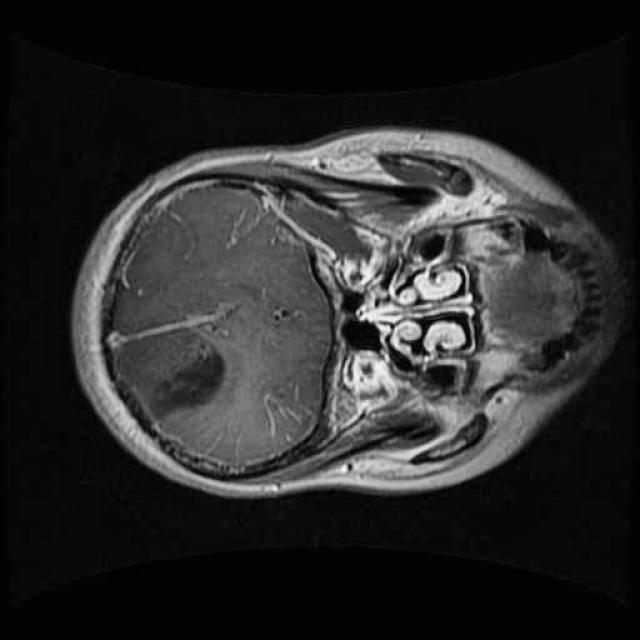Non-Tumor: (129, 331, 235, 439)
